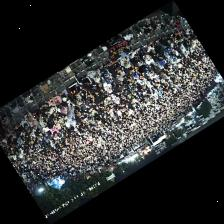person: (72, 69, 92, 87), (139, 48, 155, 66), (138, 59, 151, 75), (159, 42, 174, 55), (66, 85, 81, 98), (106, 60, 120, 73), (87, 68, 100, 81), (48, 95, 61, 107), (128, 49, 139, 63), (39, 102, 49, 116), (145, 39, 154, 54), (102, 79, 112, 92), (6, 127, 16, 140), (38, 116, 48, 129), (120, 55, 130, 67), (88, 84, 98, 96), (24, 111, 34, 122), (94, 95, 104, 106), (159, 36, 170, 46), (79, 88, 89, 99), (124, 64, 134, 75), (163, 48, 172, 60), (29, 117, 37, 130), (112, 76, 123, 85), (93, 77, 102, 88), (13, 124, 22, 135), (49, 112, 58, 123), (112, 70, 123, 79), (49, 105, 57, 117), (100, 65, 107, 78), (21, 117, 28, 130), (51, 123, 58, 136), (57, 101, 66, 111), (67, 109, 75, 120), (106, 68, 112, 82), (111, 93, 119, 102), (180, 43, 187, 53), (60, 90, 67, 100), (67, 100, 74, 110), (175, 32, 183, 40), (180, 28, 188, 36), (102, 40, 111, 47), (57, 117, 63, 127)
